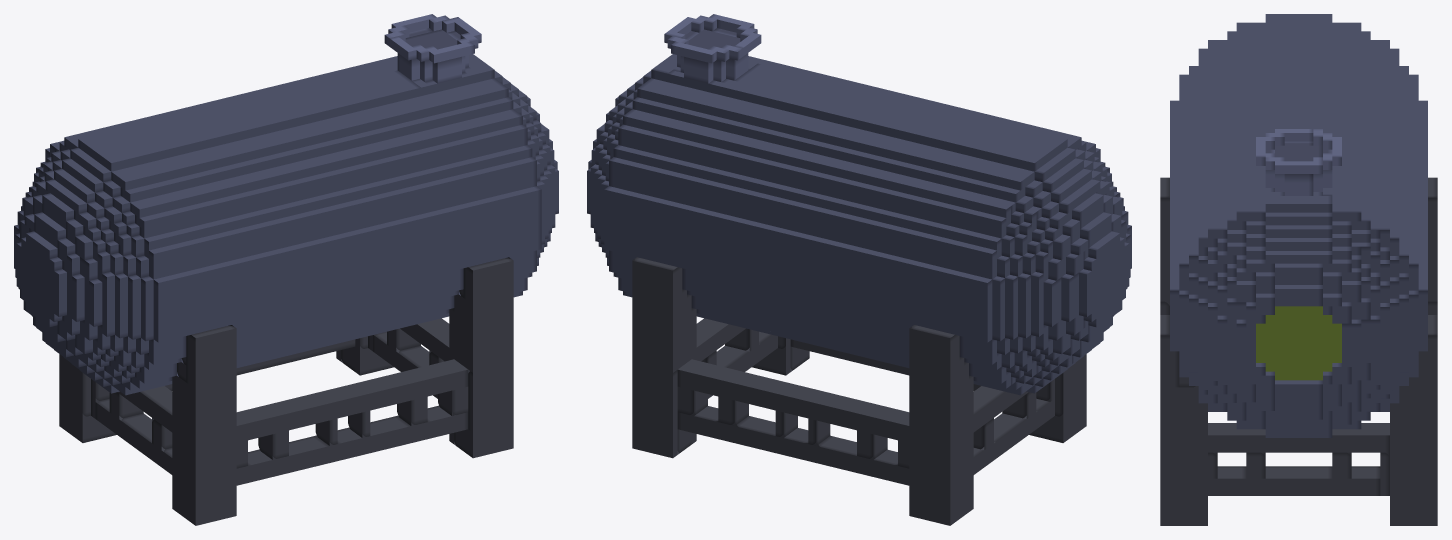
The model's file is beczulka_ciecz_poziom.dae.
The picture shows the model from 3 angles, left to right: view 1: azimuth 30°, elevation 25°; view 2: azimuth 150°, elevation 25°; view 3: azimuth 270°, elevation 25°; orthographic projection.
Visible parts, largest first — view 1: Content; view 2: Content; view 3: Content.
Part boxes in pixels (x1=…): Content: x1=14, y1=14, x2=558, y2=525; Content: x1=587, y1=14, x2=1131, y2=525; Content: x1=1160, y1=14, x2=1437, y2=525.
Size of the model in its own units: 60 by 43 by 29.
Materials: 1 (1 with a texture image).
